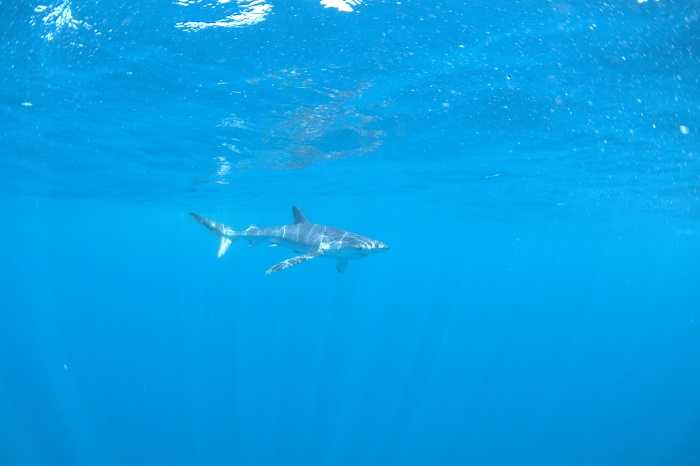Azul: (180, 199, 396, 290)
